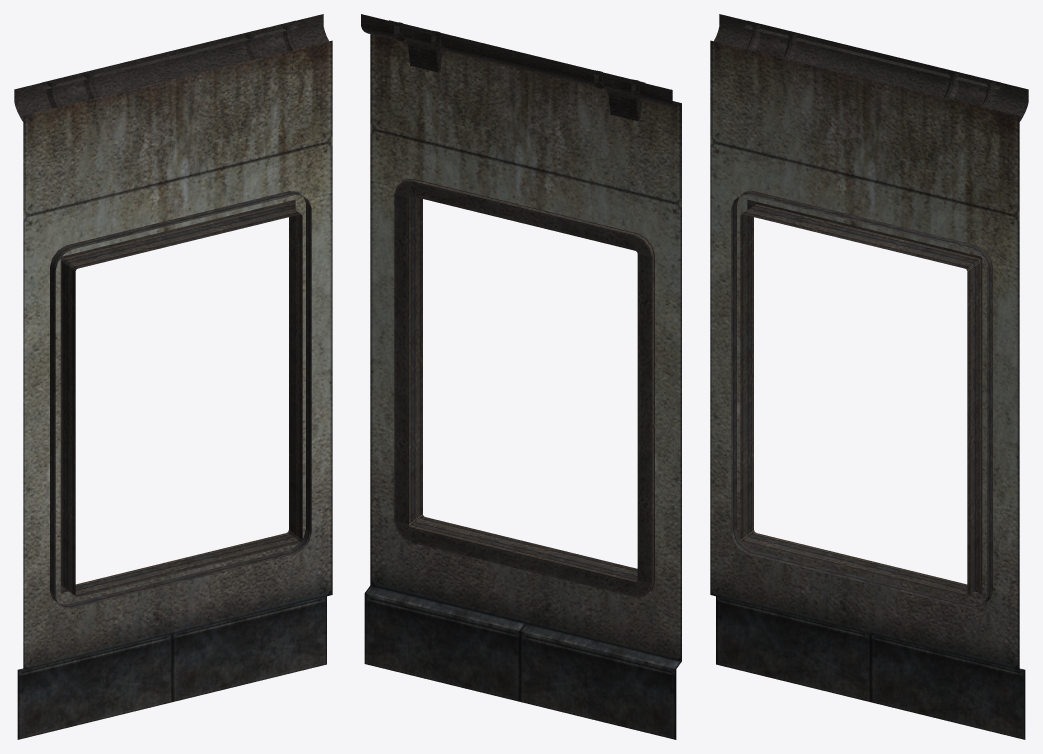
Rendered from lab_window_small_rusty.dae.
The picture shows the model from 3 angles, left to right: view 1: azimuth 30°, elevation 25°; view 2: azimuth 150°, elevation 25°; view 3: azimuth 330°, elevation 25°; orthographic projection.
Visible parts, largest first — view 1: lab_window_small; view 2: lab_window_small; view 3: lab_window_small.
Part boxes in pixels (x1,y1,x2,y2): lab_window_small: (14,14,332,739); lab_window_small: (361,14,681,739); lab_window_small: (710,14,1028,739).
Bounding box in the file's own units: 2 × 4 × 0.2276.
